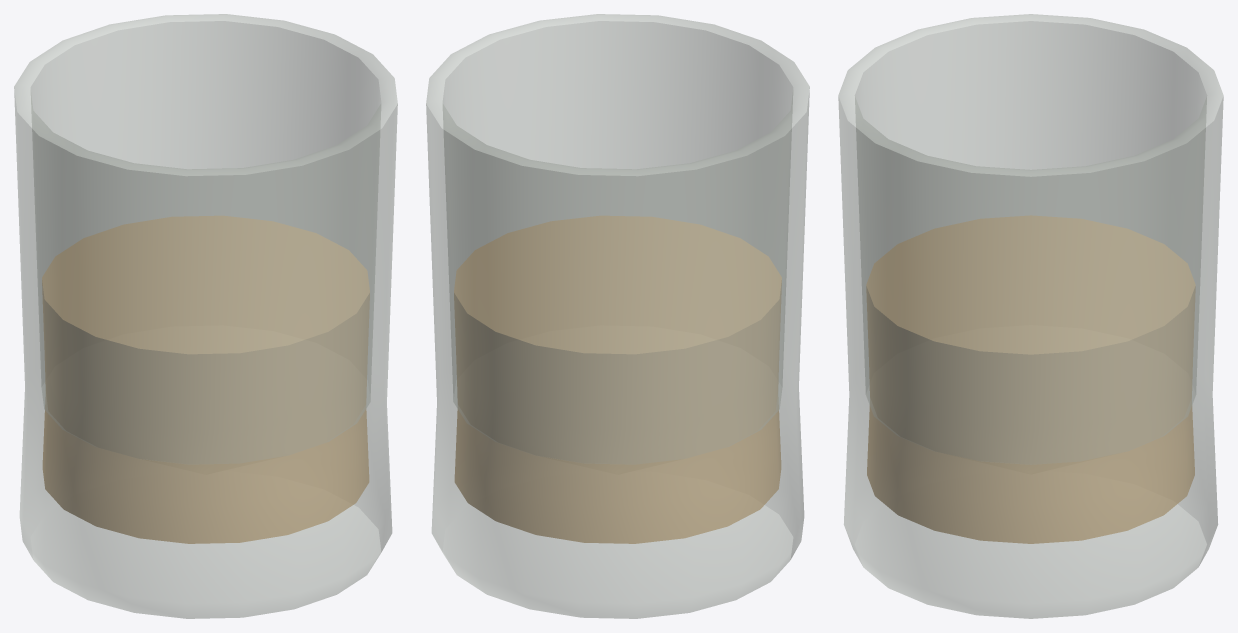
File: drink-8.glb
3 views of the same model, side by side, from view 1: azimuth 30°, elevation 25°; view 2: azimuth 150°, elevation 25°; view 3: azimuth 270°, elevation 25° (orthographic).
Visible parts, largest first — view 1: glass, liquid; view 2: glass, liquid; view 3: glass, liquid.
Boxes of the visible parts, box(x1,y1,x2,y2) form: glass: box(14, 14, 397, 618); liquid: box(42, 216, 369, 543); glass: box(426, 14, 809, 618); liquid: box(454, 216, 781, 543); glass: box(838, 14, 1223, 618); liquid: box(866, 215, 1195, 543).
Bounding box in the file's own units: 0.07 × 0.0904 × 0.07.
